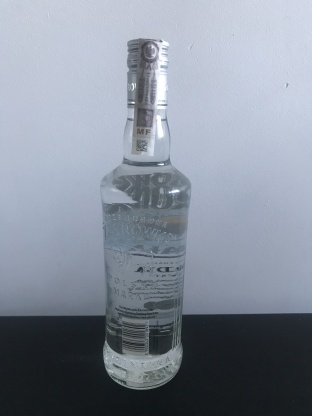nakretka: (124, 34, 171, 113)
